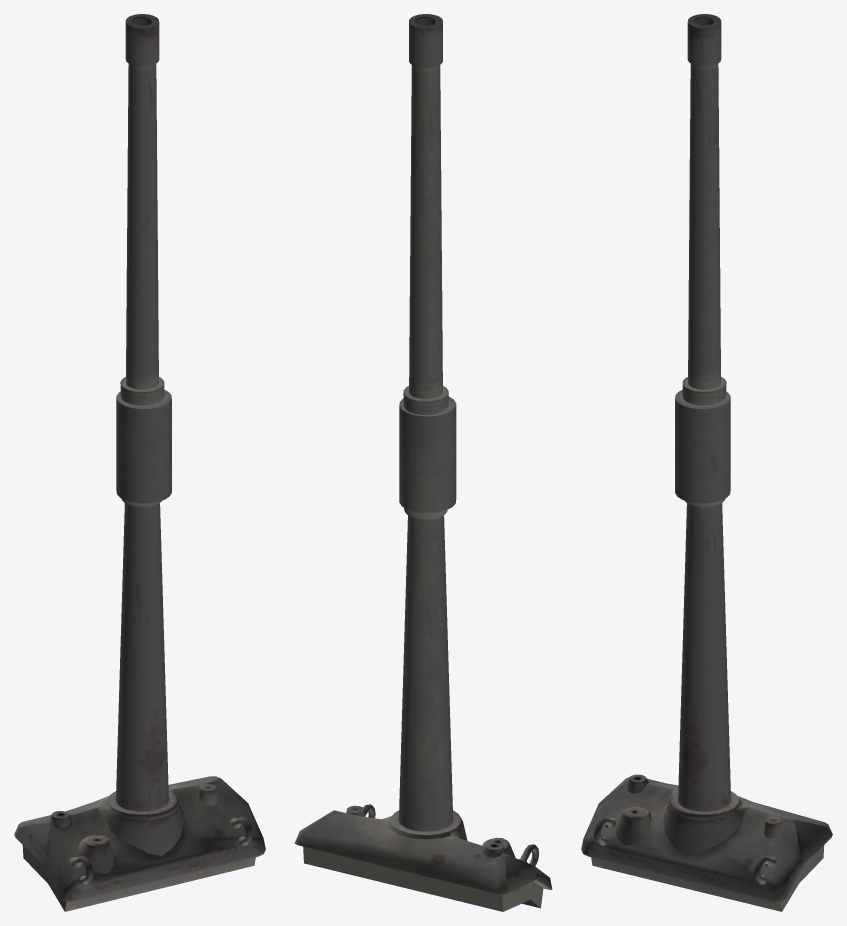
The model's file is Gun_03.glb.
3 renders of one model, left to right at view 1: azimuth 30°, elevation 25°; view 2: azimuth 150°, elevation 25°; view 3: azimuth 330°, elevation 25°, orthographic. The views are drawn at different scales.
Parts seen in each view (by area): view 1: set_0_group_0; view 2: set_0_group_0; view 3: set_0_group_0.
Part boxes in pixels (box(x1,y1,x2,y2)): set_0_group_0: box(14, 14, 265, 911); set_0_group_0: box(294, 14, 552, 911); set_0_group_0: box(581, 14, 832, 911).
Bounding box in the file's own units: 1.21 × 4.77 × 0.571.
1 material, 1 textured.
